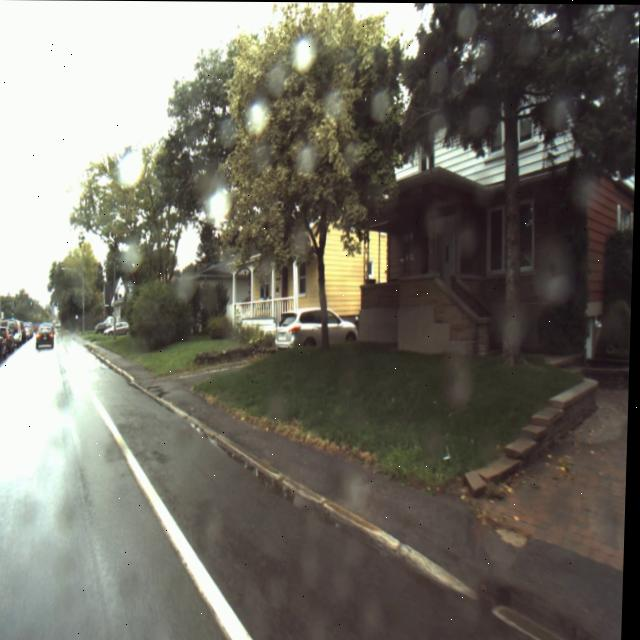car: (277, 308, 361, 348), (3, 319, 28, 348), (37, 324, 58, 351), (2, 326, 18, 354), (105, 322, 132, 337), (0, 327, 9, 362), (25, 323, 36, 342), (96, 323, 109, 335), (0, 324, 0, 376)
